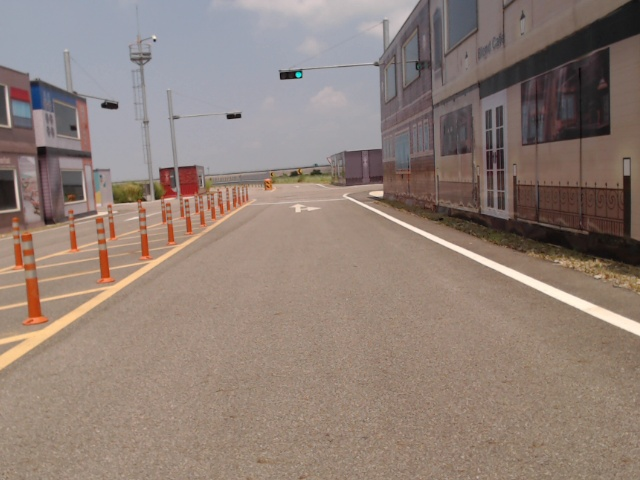green_3: (279, 69, 303, 80)
